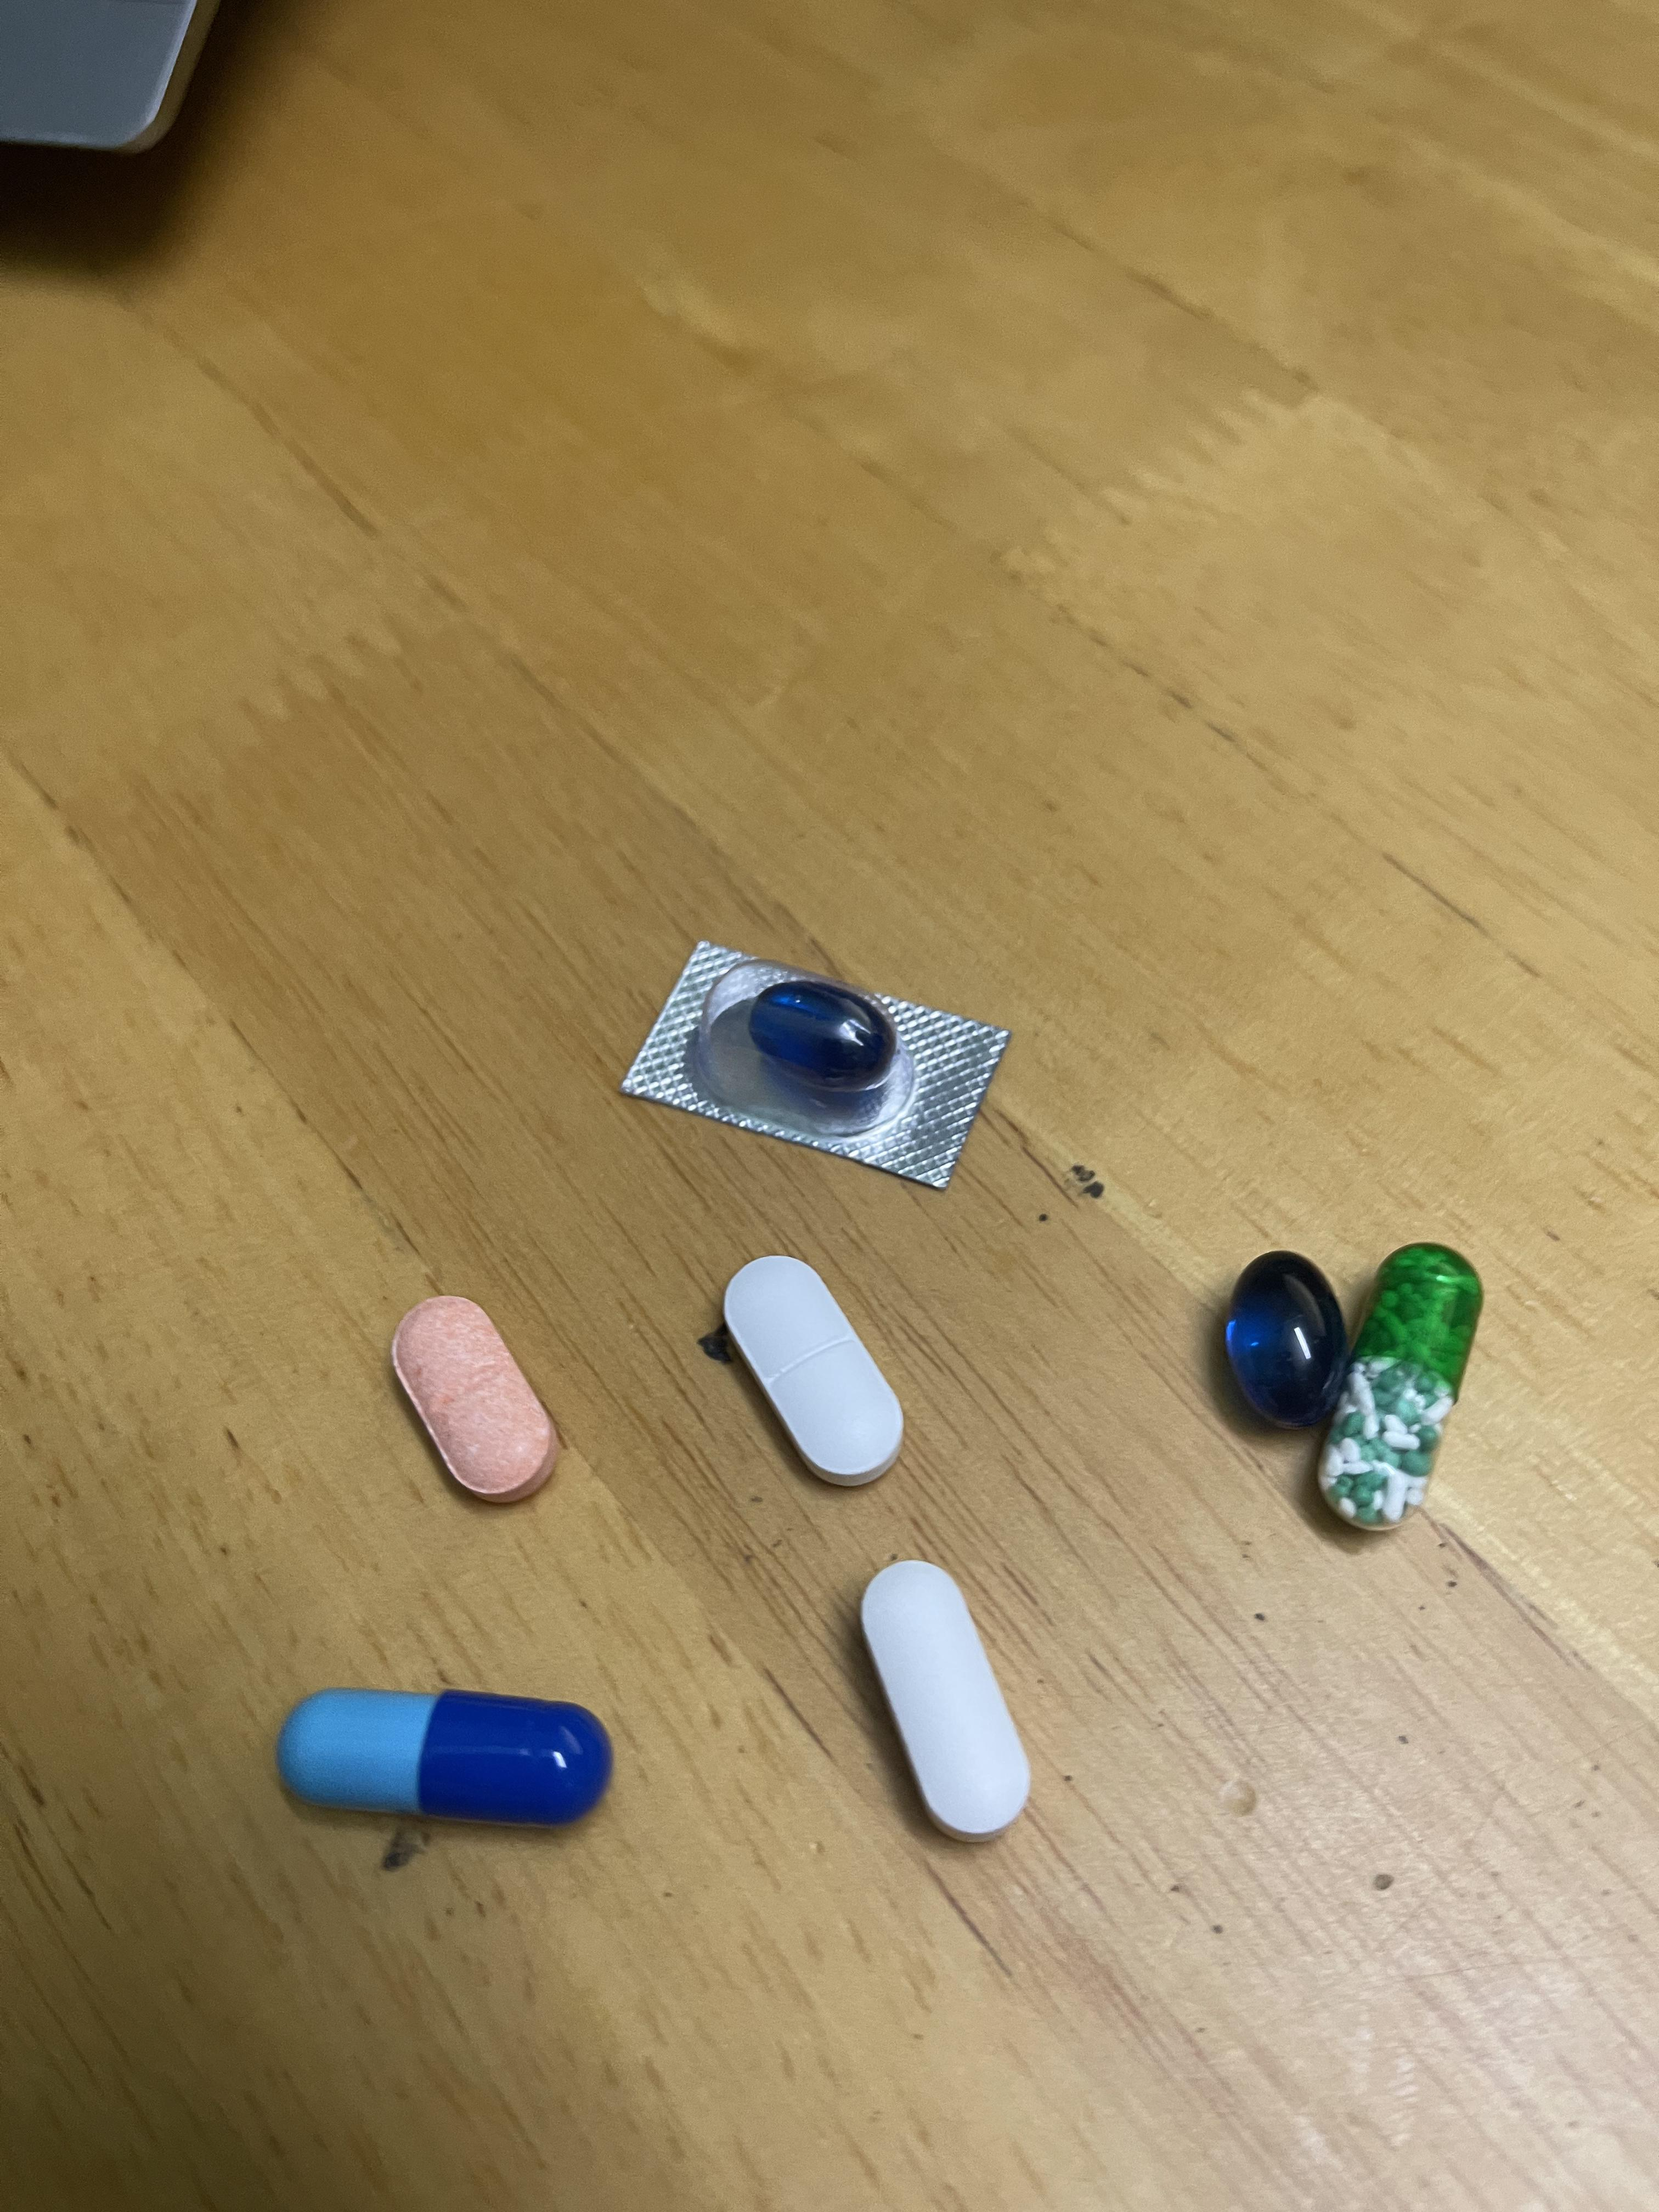Lincomyxin_500mg: (1222, 1252, 1349, 1428), (746, 975, 897, 1092)
Loratadine_10mg: (394, 1296, 556, 1496)
Paracetamol_350mg: (721, 1254, 908, 1487)
Paracetamol_500mg: (857, 1561, 1026, 1829)
Paracetamol_650mg: (1321, 1252, 1478, 1519)
pill: (281, 1689, 599, 1822)
